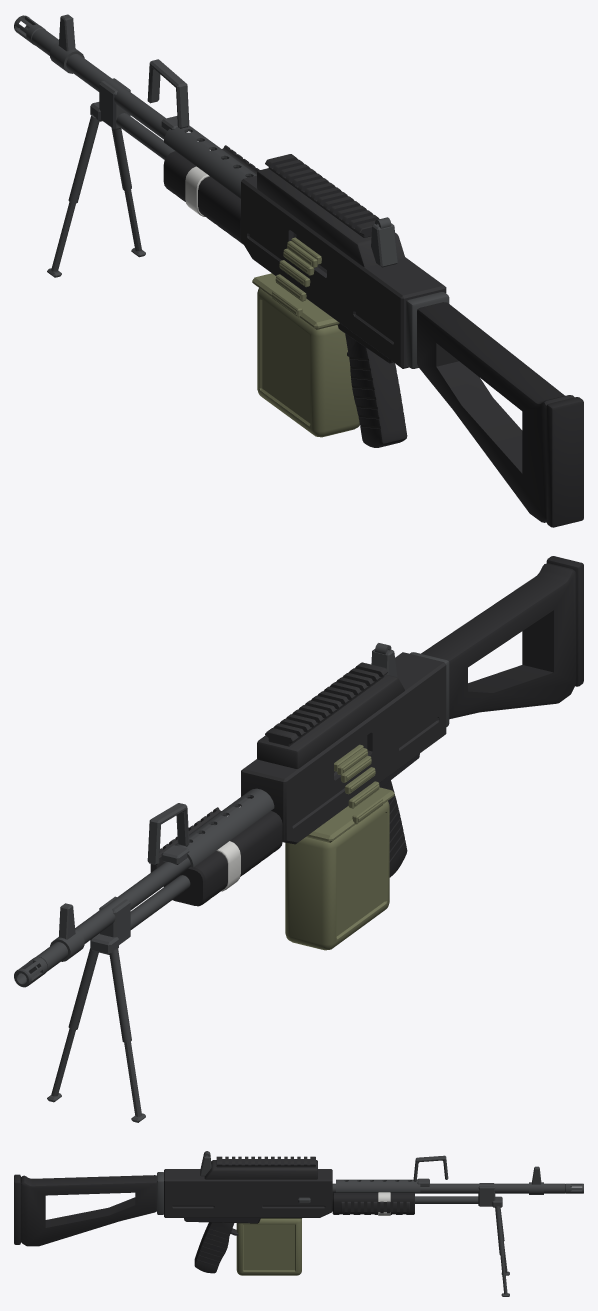
3 renders of one model, top to bottom at view 1: azimuth 30°, elevation 25°; view 2: azimuth 150°, elevation 25°; view 3: azimuth 270°, elevation 25°, orthographic. The views are drawn at different scales.
Parts seen in each view (by area): view 1: Furniture, Body, Metal, Mag; view 2: Body, Furniture, Metal, Mag; view 3: Body, Furniture, Metal, Mag.
Part boxes in pixels (left/top/right/bottom): Furniture: left=163, top=151, right=583, bottom=527; Body: left=222, top=145, right=446, bottom=368; Metal: left=14, top=14, right=449, bottom=368; Mag: left=252, top=237, right=359, bottom=437; Body: left=150, top=652, right=446, bottom=872; Furniture: left=163, top=556, right=583, bottom=906; Metal: left=14, top=643, right=449, bottom=1122; Mag: left=285, top=744, right=394, bottom=950; Body: left=164, top=1156, right=409, bottom=1235; Furniture: left=14, top=1174, right=414, bottom=1273; Metal: left=157, top=1151, right=583, bottom=1296; Mag: left=236, top=1218, right=301, bottom=1275.
Size of the model in its own units: 0.53 by 1.39 by 5.4.
